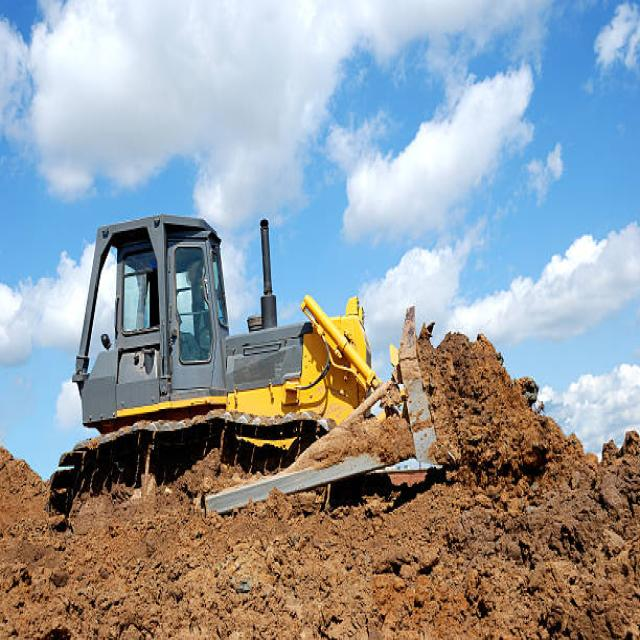buldozerpayloadergrader: (45, 211, 546, 527)
